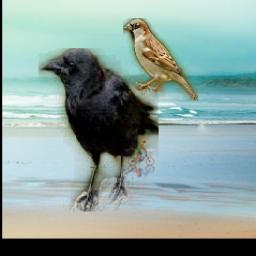Crow: (39, 49, 159, 213)
Sparrow: (123, 19, 198, 101)
